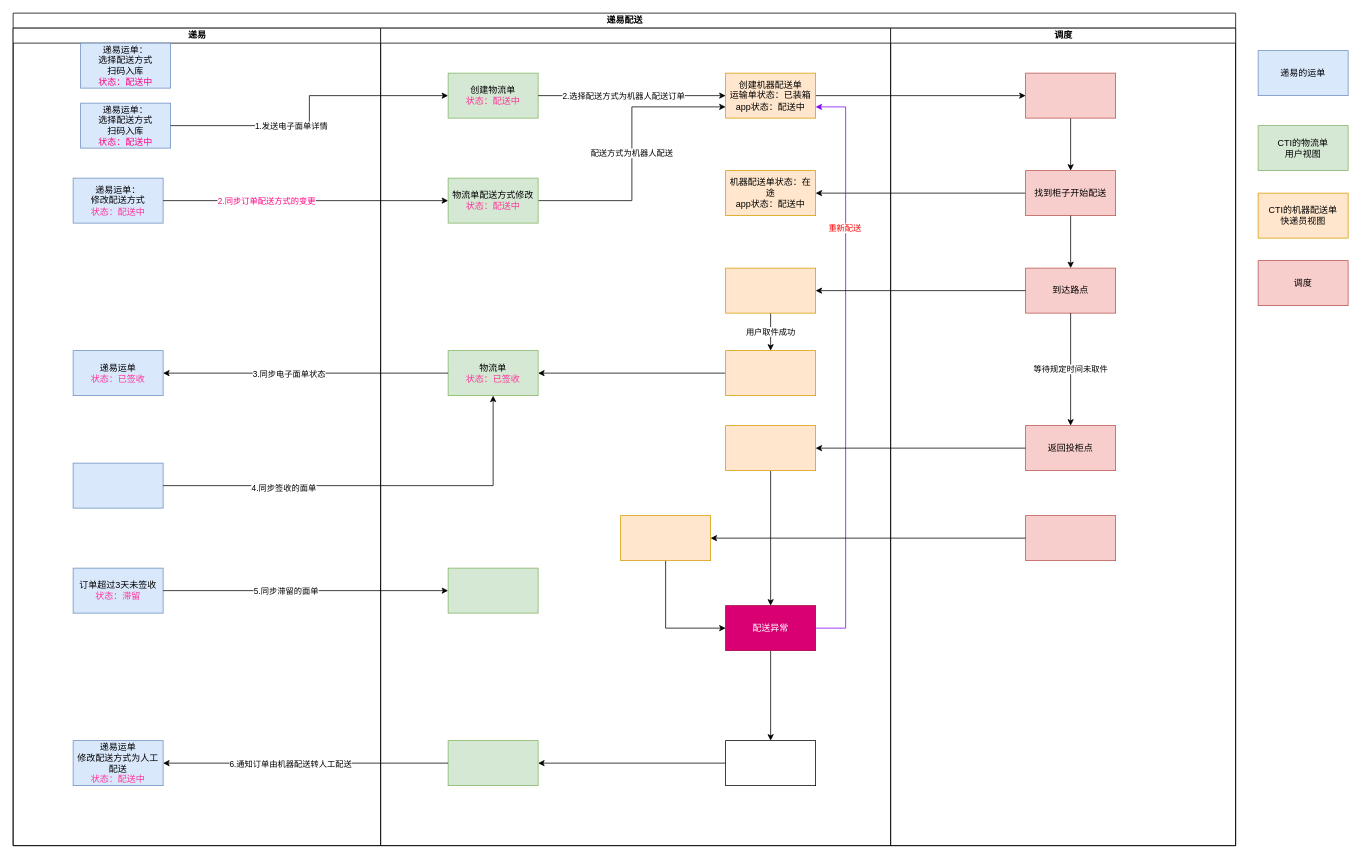
Image size: 1361x859. Some labels were removed from this diagram. The box of each missing label's shape, as (x1, y1, x2, y2) in pixels:
创建调度: (1025, 72, 1116, 118)
后台: (380, 27, 891, 846)
开箱取件 记录操作人: (725, 740, 816, 786)
机器配送单状态：到达 app状态：配送中: (725, 267, 816, 313)
机器配送单状态：签收 app状态：已签收: (725, 350, 816, 396)
机器配送单状态：超时未取 app状态：配送异常: (725, 425, 816, 471)
机器配送单状态：配送失败 app状态：配送异常: (620, 515, 711, 561)
物流单 状态：滞留: (447, 567, 538, 613)
物流单配送方式 转人工配送 状态：配送中: (447, 740, 538, 786)
递易人工或者快递柜签收完成 状态：已签收: (72, 462, 163, 508)
配送失败: (1025, 515, 1116, 561)
